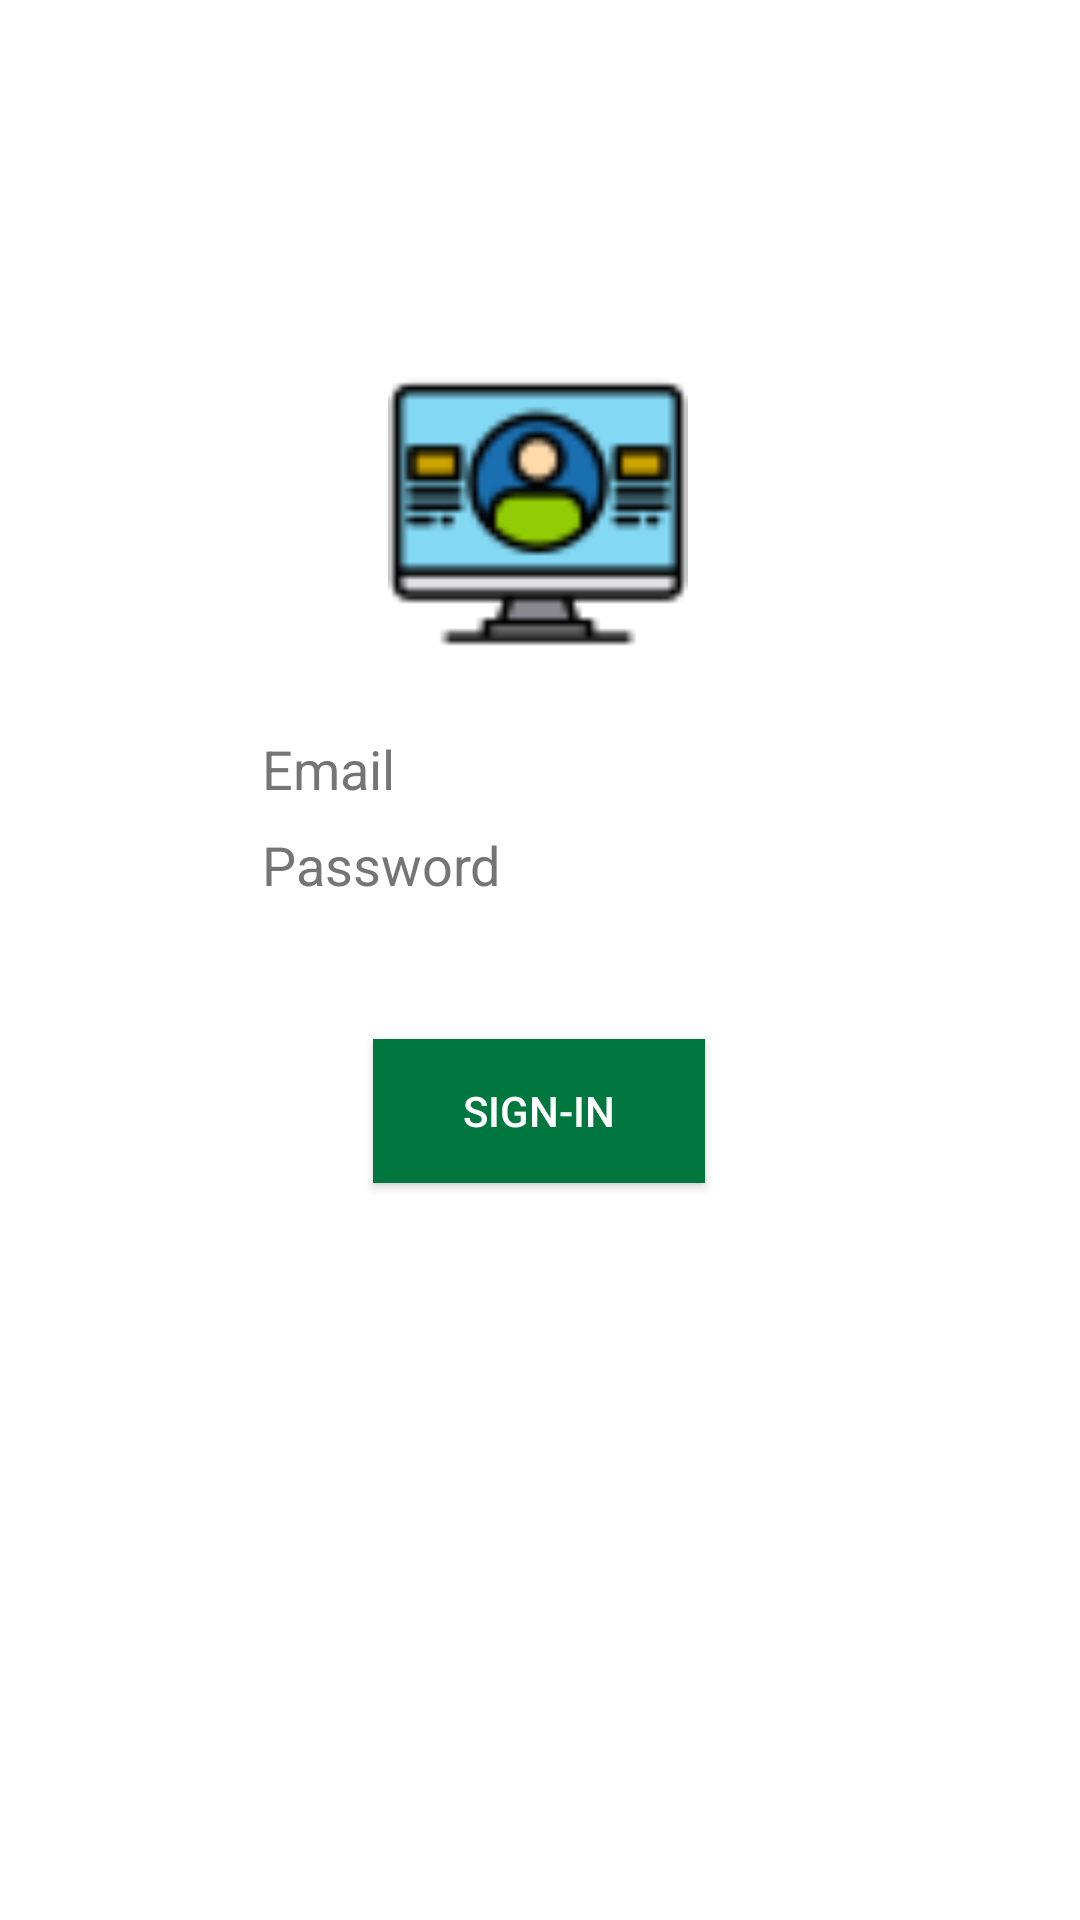

Icons on this 1080 × 1920 Android screen, each with the point to tap as (x,y):
login: (538,513)
